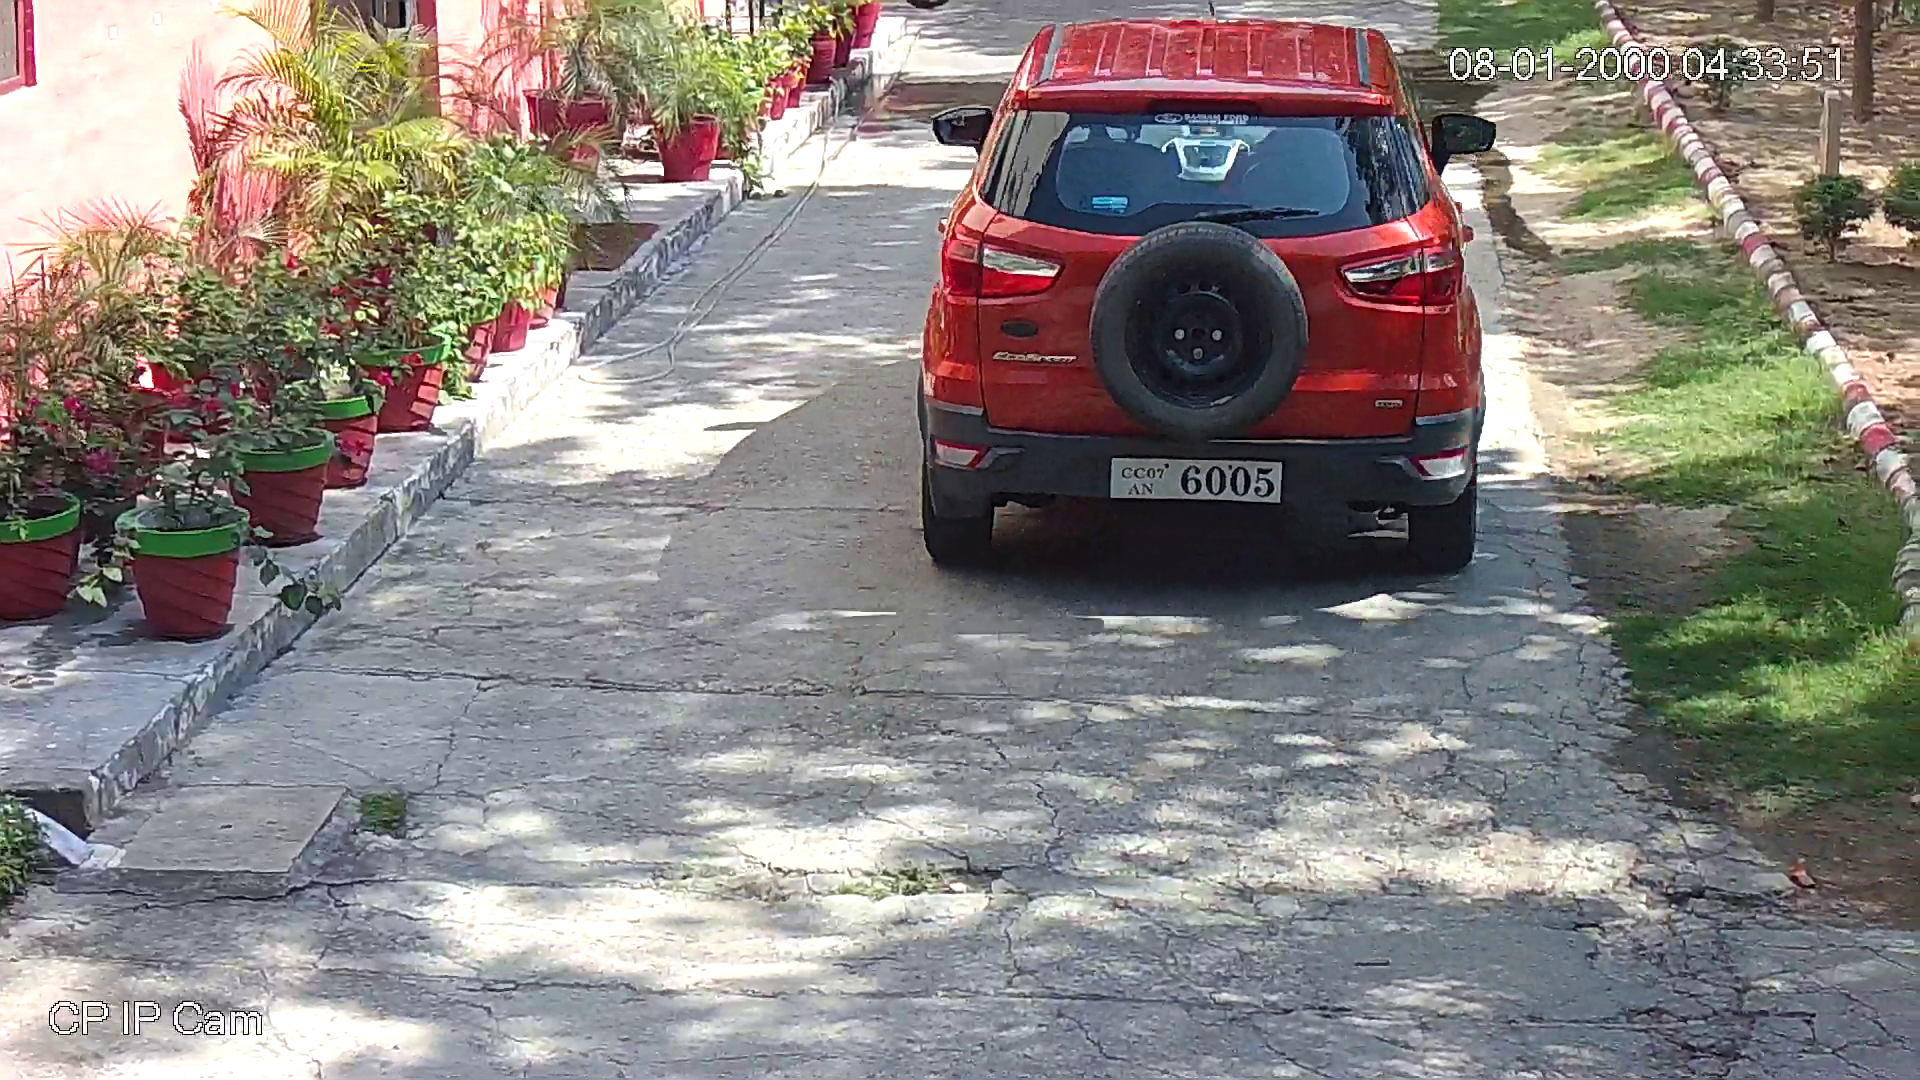plate: (1102, 449, 1294, 505), (1131, 545, 1135, 550)
